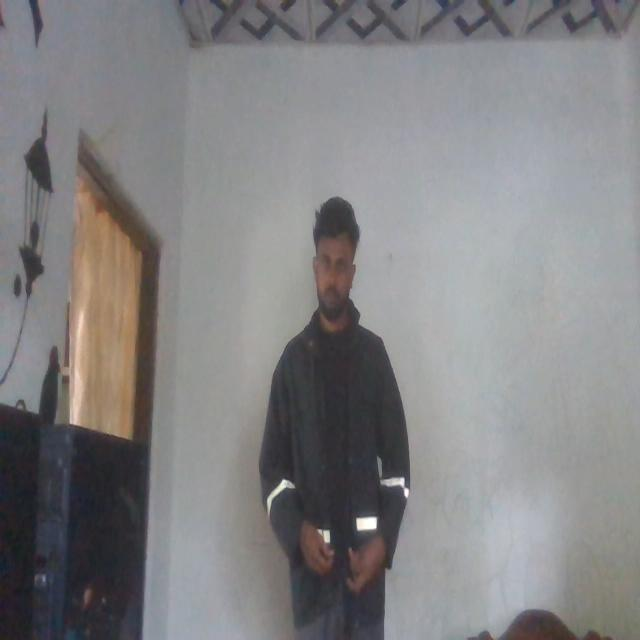Jacket_Wearer: (251, 294, 423, 582)
Person: (250, 185, 420, 640)
